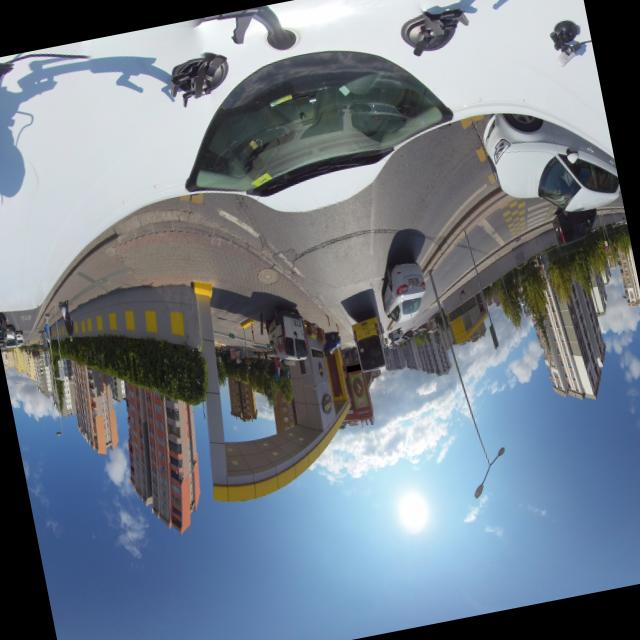SignStore: (345, 363, 360, 372)
